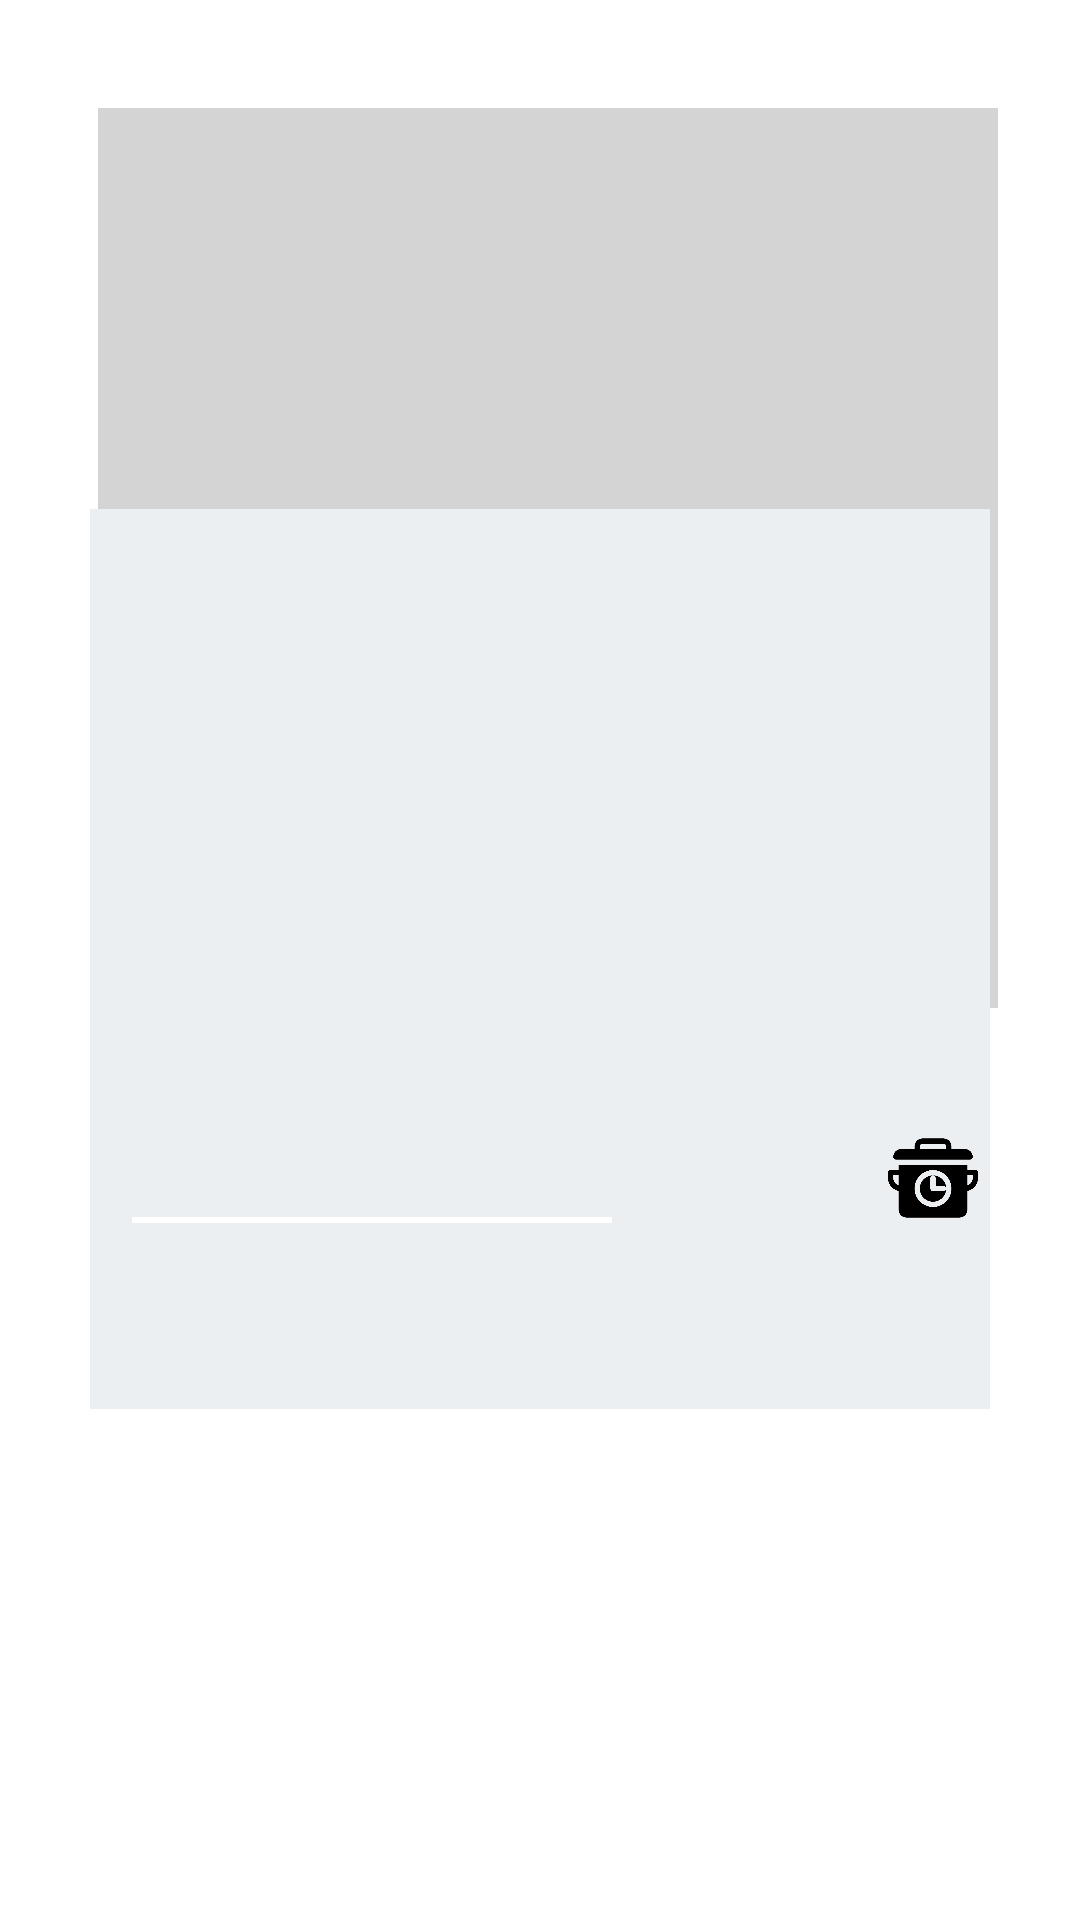

Icon bounding boxes for this 1080w x 1920h phone screenshot, format box=[x1, y1, x2, y2]:
time: box=[888, 1138, 978, 1218]
